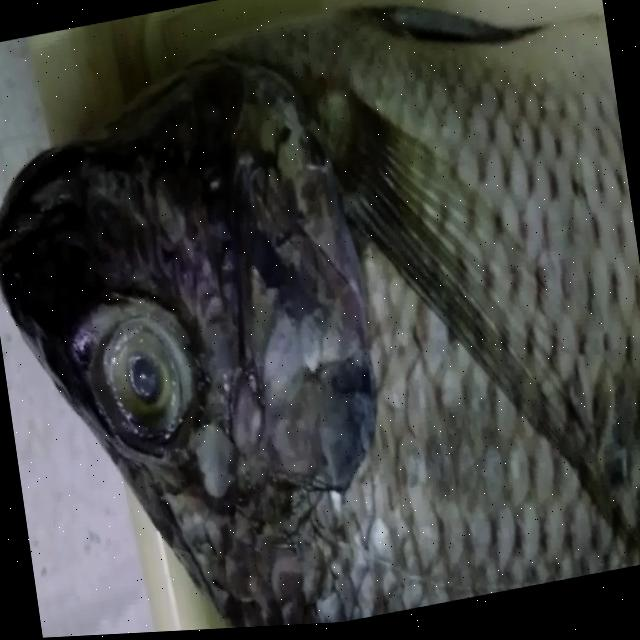Non-Fresh: (80, 282, 210, 470)
